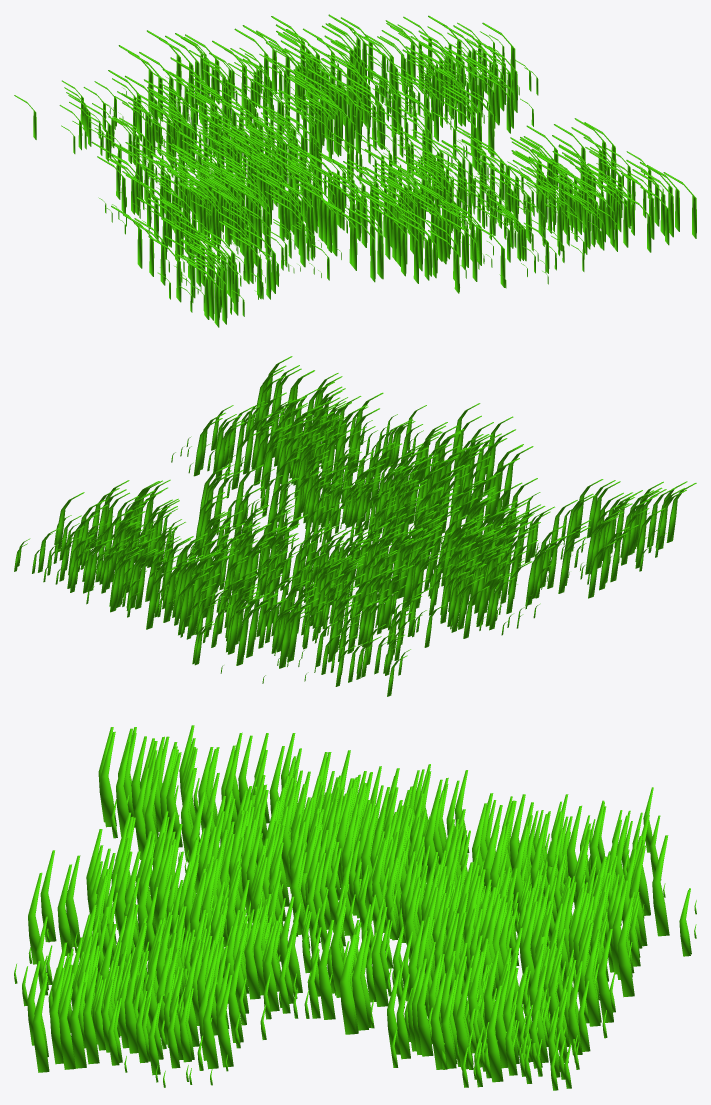
Rendered from grass.glb.
3 views of the same model, one above another, from view 1: azimuth 30°, elevation 25°; view 2: azimuth 150°, elevation 25°; view 3: azimuth 270°, elevation 25° (orthographic). The views are drawn at different scales.
Parts seen in each view (by area): view 1: Plane.594; view 2: Plane.594; view 3: Plane.594.
Boxes of the visible parts, x1=… form: Plane.594: x1=14, y1=14, x2=696, y2=327; Plane.594: x1=14, y1=356, x2=696, y2=696; Plane.594: x1=14, y1=725, x2=696, y2=1090.
Size of the model in its own units: 2.08 by 0.3022 by 2.1.
